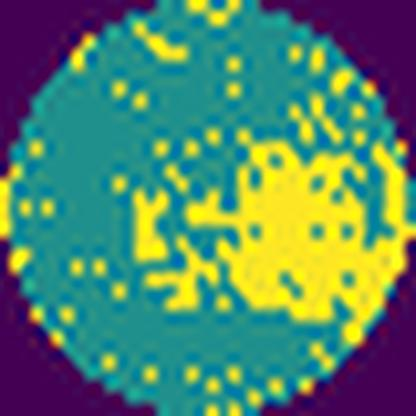Loc: (183, 135, 412, 336), (150, 236, 224, 314), (128, 186, 171, 260)
